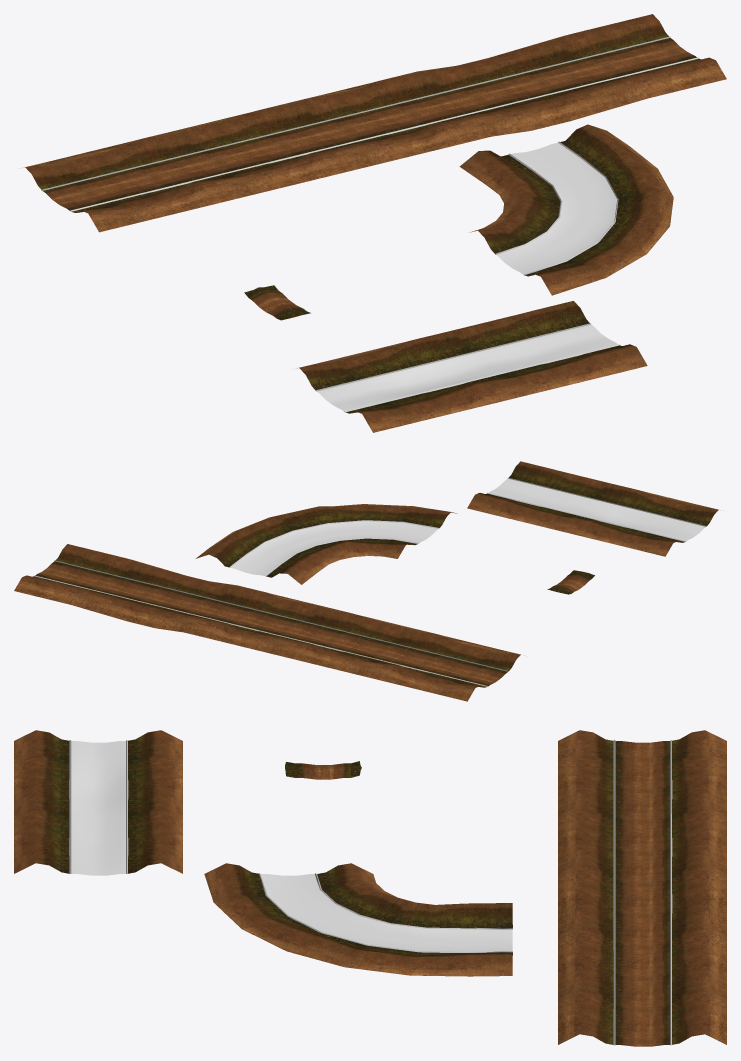
The model's file is Race_track_02.fbx.
3 views of the same model, one above another, from view 1: azimuth 30°, elevation 25°; view 2: azimuth 150°, elevation 25°; view 3: azimuth 270°, elevation 25° (orthographic). The views are drawn at different scales.
Visible parts, largest first — view 1: Race_track_2, Race_track_4, Race_track_3, Race_track_1; view 2: Race_track_2, Race_track_4, Race_track_3, Race_track_1; view 3: Race_track_2, Race_track_3, Race_track_4, Race_track_1.
Boxes of the visible parts, box(x1,y1,x2,y2) form: Race_track_2: box(24, 14, 726, 232); Race_track_4: box(297, 301, 647, 432); Race_track_3: box(459, 124, 673, 295); Race_track_1: box(244, 285, 310, 320); Race_track_2: box(14, 544, 520, 701); Race_track_4: box(467, 461, 718, 556); Race_track_3: box(195, 504, 456, 584); Race_track_1: box(547, 570, 594, 594); Race_track_2: box(558, 730, 726, 1046); Race_track_3: box(204, 863, 512, 976); Race_track_4: box(14, 730, 182, 875); Race_track_1: box(285, 761, 361, 779).
Bounding box in the file's own units: 170 × 4.17 × 168.
